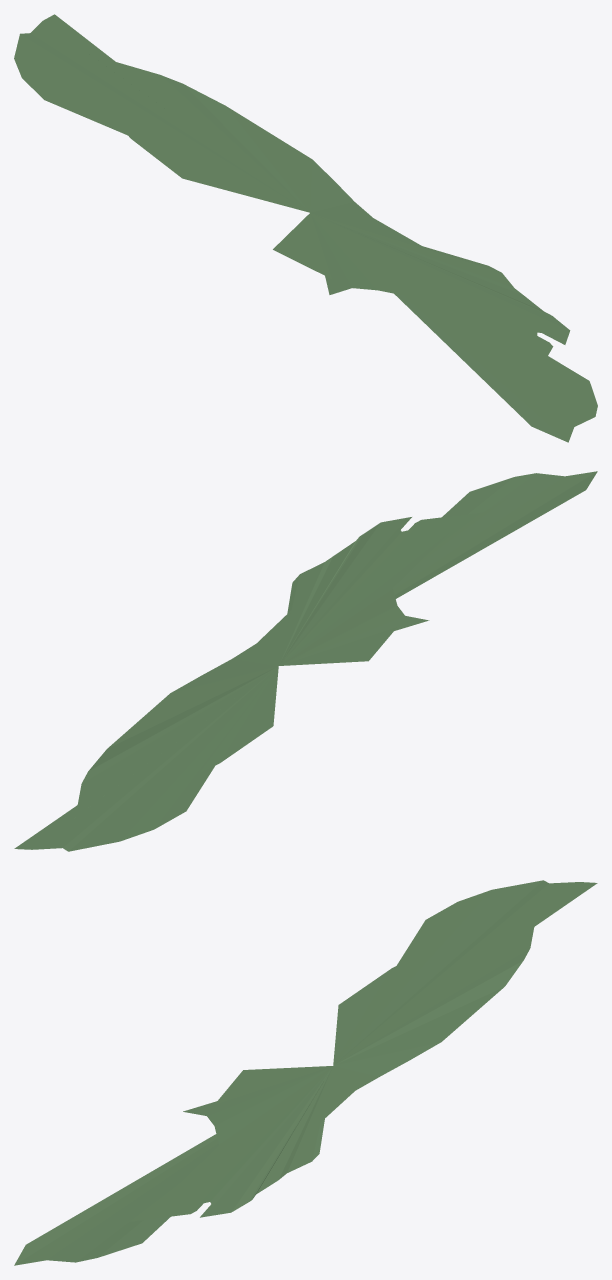
The model's file is c_1628_17814_forest.glb.
3 views of the same model, one above another, from view 1: azimuth 30°, elevation 25°; view 2: azimuth 150°, elevation 25°; view 3: azimuth 330°, elevation 25° (orthographic). The views are drawn at different scales.
Visible parts, largest first — view 1: geometry_0; view 2: geometry_0; view 3: geometry_0.
Boxes of the visible parts, <box> form: geometry_0: <box>14,14,597,442</box>; geometry_0: <box>14,471,597,851</box>; geometry_0: <box>14,880,597,1265</box>.
Bounding box in the file's own units: 252 × 4.23 × 1458.
